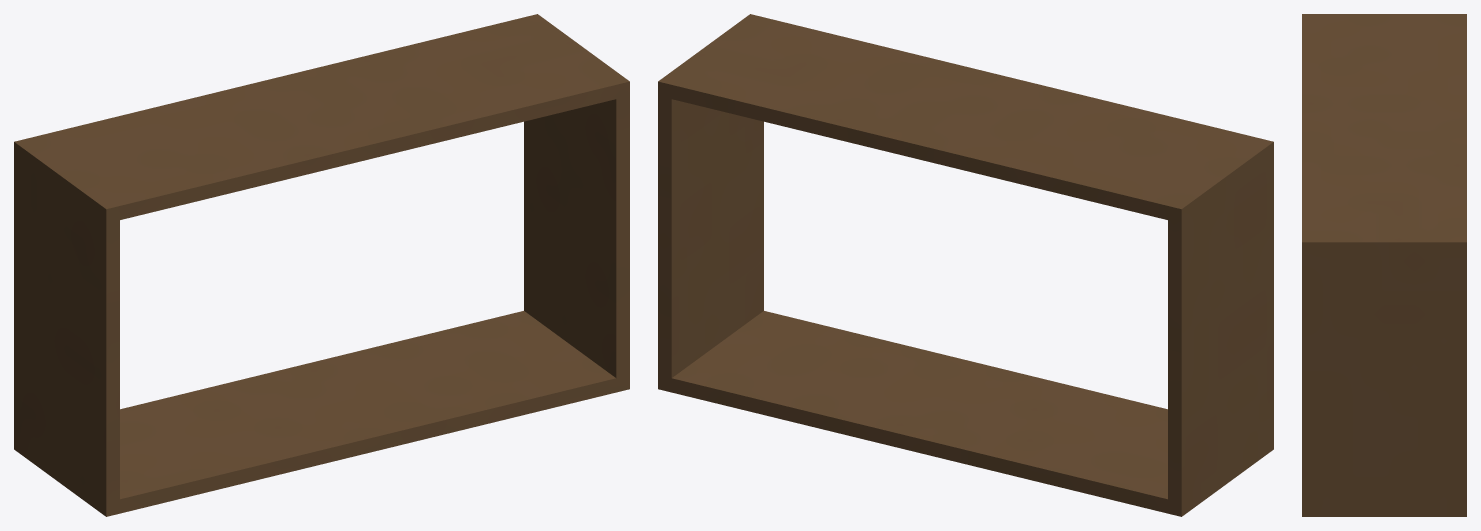
Rendered from Wall_Shelf_01_04.fbx.
The picture shows the model from 3 angles, left to right: view 1: azimuth 30°, elevation 25°; view 2: azimuth 150°, elevation 25°; view 3: azimuth 270°, elevation 25°; orthographic projection. The views are drawn at different scales.
Visible parts, largest first — view 1: Wall_Shelf_01_04; view 2: Wall_Shelf_01_04; view 3: Wall_Shelf_01_04.
Boxes of the visible parts, <box> form: Wall_Shelf_01_04: <box>14,14,629,516</box>; Wall_Shelf_01_04: <box>658,14,1273,516</box>; Wall_Shelf_01_04: <box>1302,14,1466,516</box>.
Bounding box in the file's own units: 1.31 × 0.7363 × 0.4.
